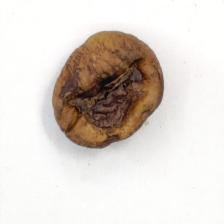NG: (56, 47, 121, 148), (117, 45, 163, 136)
